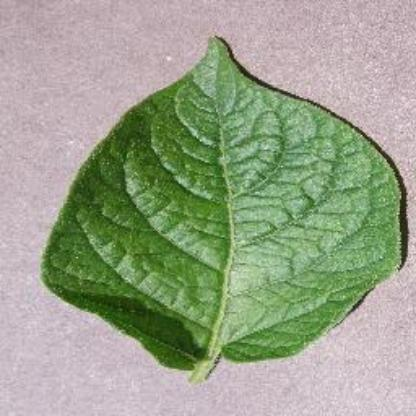Healthy-plant: (40, 34, 406, 386)
